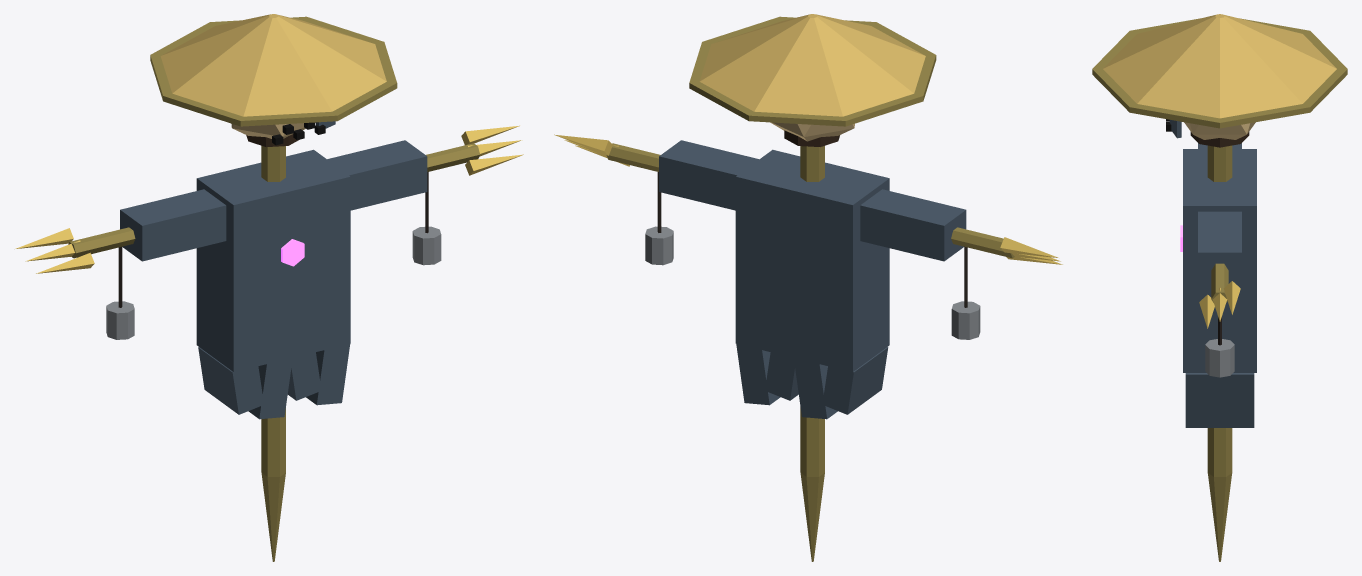
File: scarecrow.glb
3 renders of one model, left to right at view 1: azimuth 30°, elevation 25°; view 2: azimuth 150°, elevation 25°; view 3: azimuth 270°, elevation 25°, orthographic.
Visible parts, largest first — view 1: Shirt, Caping, Sleeve_L, Sleeve_R, CapingRim, Rag_1, Pole, Crossbar, Rag_4, Rag_2, Rag_3, Stake (+3 smaller); view 2: Shirt, Caping, Sleeve_L, CapingRim, Sleeve_R, Rag_1, Pole, Crossbar, Rag_4, Rag_2, Rag_3, Stake (+3 smaller); view 3: Caping, Shirt, CapingRim, Rag_4, Sleeve_R, Pole, Stake, Can_R, Sack, Crossbar, Neck.
Part boxes in pixels (box(x1,y1,x2,y2)): Shirt: box(196, 149, 350, 371); Caping: box(160, 14, 386, 116); Sleeve_L: box(120, 189, 226, 261); Sleeve_R: box(327, 140, 427, 210); CapingRim: box(150, 16, 397, 126); Rag_1: box(198, 347, 263, 414); Pole: box(261, 145, 285, 476); Crossbar: box(68, 143, 479, 258); Rag_4: box(306, 344, 350, 405); Rag_2: box(248, 358, 292, 419); Rag_3: box(287, 352, 321, 400); Stake: box(261, 473, 285, 561); Shirt: box(735, 149, 889, 372); Caping: box(699, 14, 925, 116); Sleeve_L: box(860, 189, 966, 261); CapingRim: box(689, 16, 936, 126); Sleeve_R: box(659, 140, 758, 210); Rag_1: box(822, 347, 888, 414); Pole: box(800, 146, 824, 476); Crossbar: box(606, 143, 1014, 258); Rag_4: box(736, 344, 780, 405); Rag_2: box(793, 358, 837, 419); Rag_3: box(765, 352, 798, 400); Stake: box(800, 473, 824, 561); Caping: box(1103, 14, 1336, 118); Shirt: box(1183, 149, 1256, 372); CapingRim: box(1092, 18, 1347, 128); Rag_4: box(1185, 373, 1254, 427); Sleeve_R: box(1198, 211, 1241, 288); Pole: box(1207, 145, 1232, 476); Stake: box(1207, 473, 1232, 561); Can_R: box(1205, 339, 1234, 377); Sack: box(1184, 122, 1255, 139); Crossbar: box(1211, 263, 1228, 302); Neck: box(1190, 132, 1249, 147).
Bounding box in the file's own units: 2.38 × 2.45 × 1.04.
